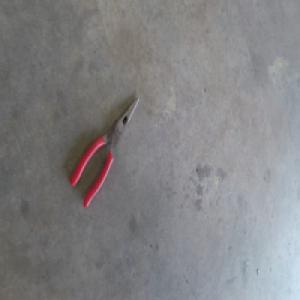Pliers: (68, 93, 137, 205)
